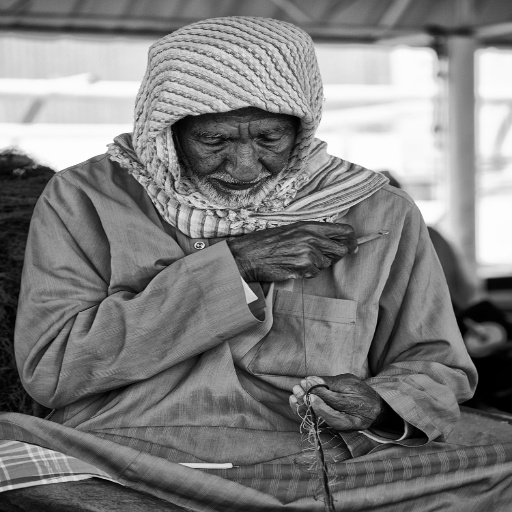hand: (241, 219, 358, 282), (288, 373, 385, 435)
